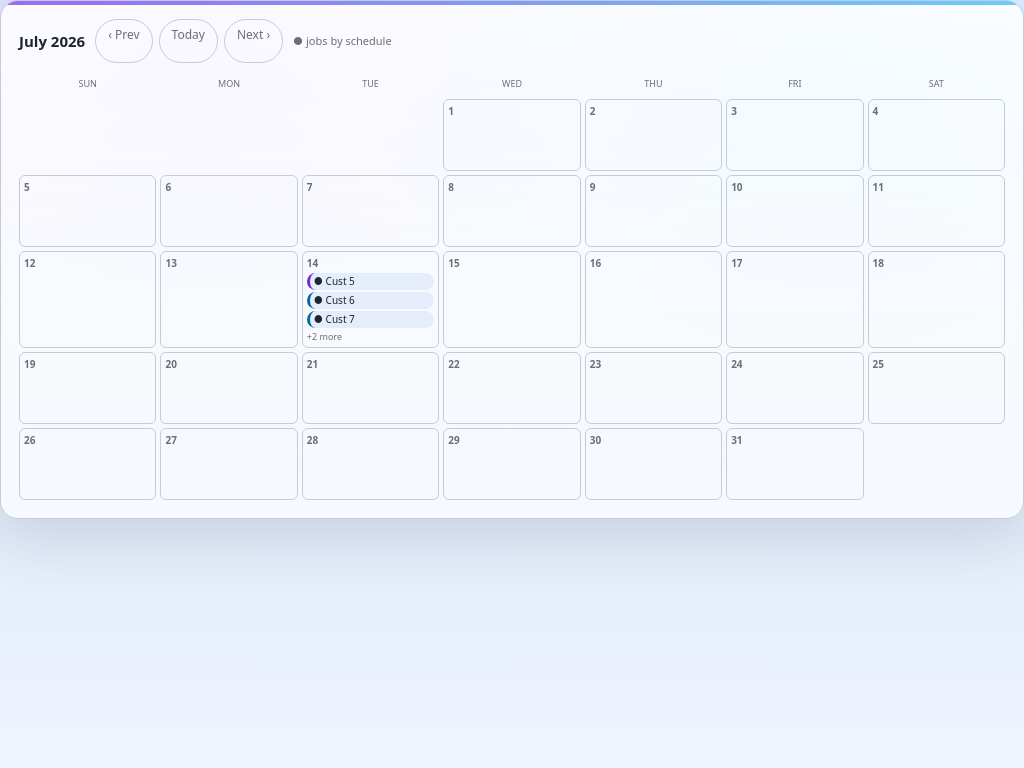
Test: CalendarGrid › day click opens the day panel listing ALL entries
The width and height of the screenshot is (1024, 768).
What coordinates should you click on to do the following:
click the button with class "calday" that starts with "Cust 5"
I would click on:
 (370, 299)
Its box is [302,250,439,348].
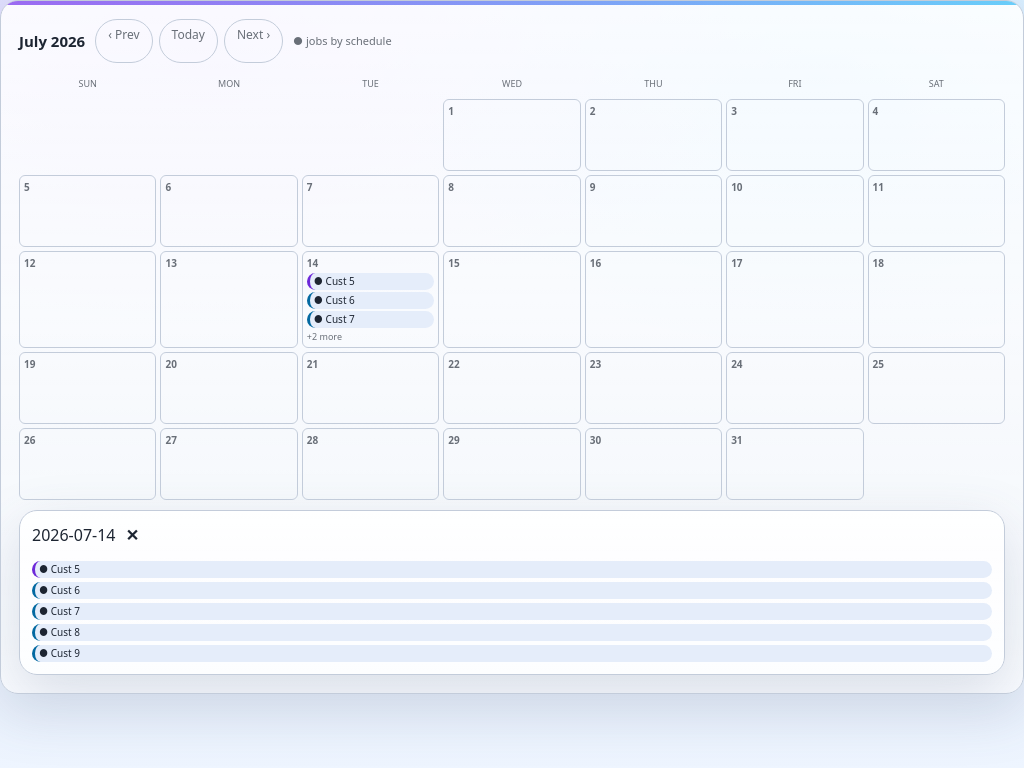
Now the element with class "caldaypanel" shows "Cust 9", box [32,645,992,662]
